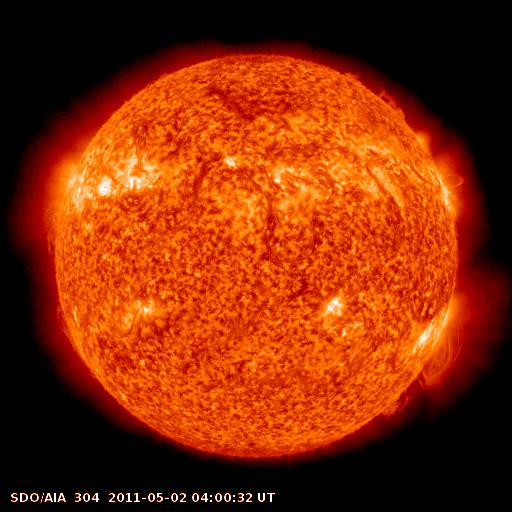prominence: (418, 313, 472, 392), (48, 300, 89, 361), (29, 223, 69, 263), (375, 389, 416, 427), (375, 81, 408, 124), (335, 59, 369, 87)
